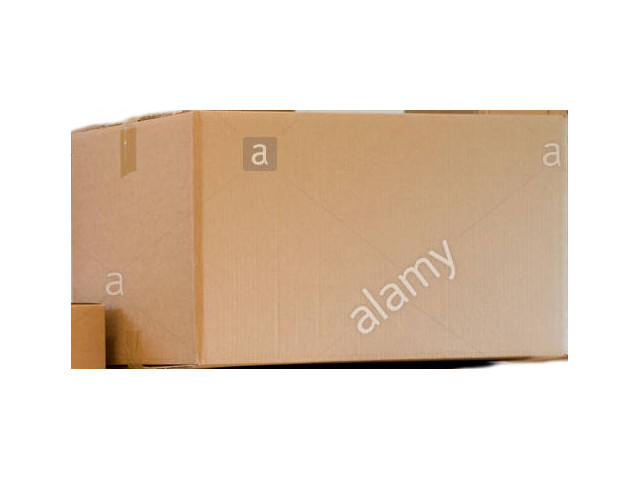cardboard: (71, 111, 565, 363)
